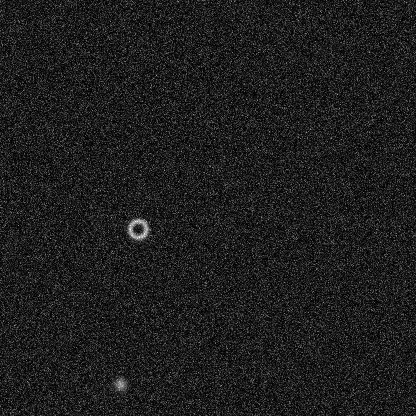Ring: (125, 216, 149, 240)
Spot: (112, 376, 128, 392)
